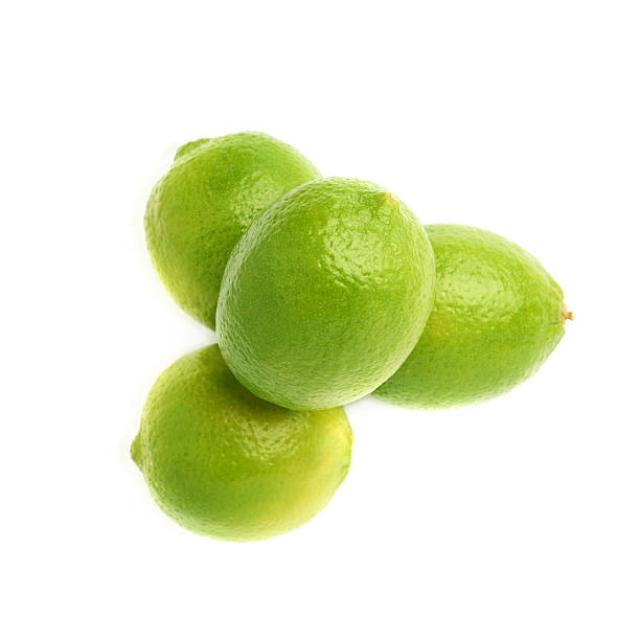Unripe: (213, 178, 436, 412)
